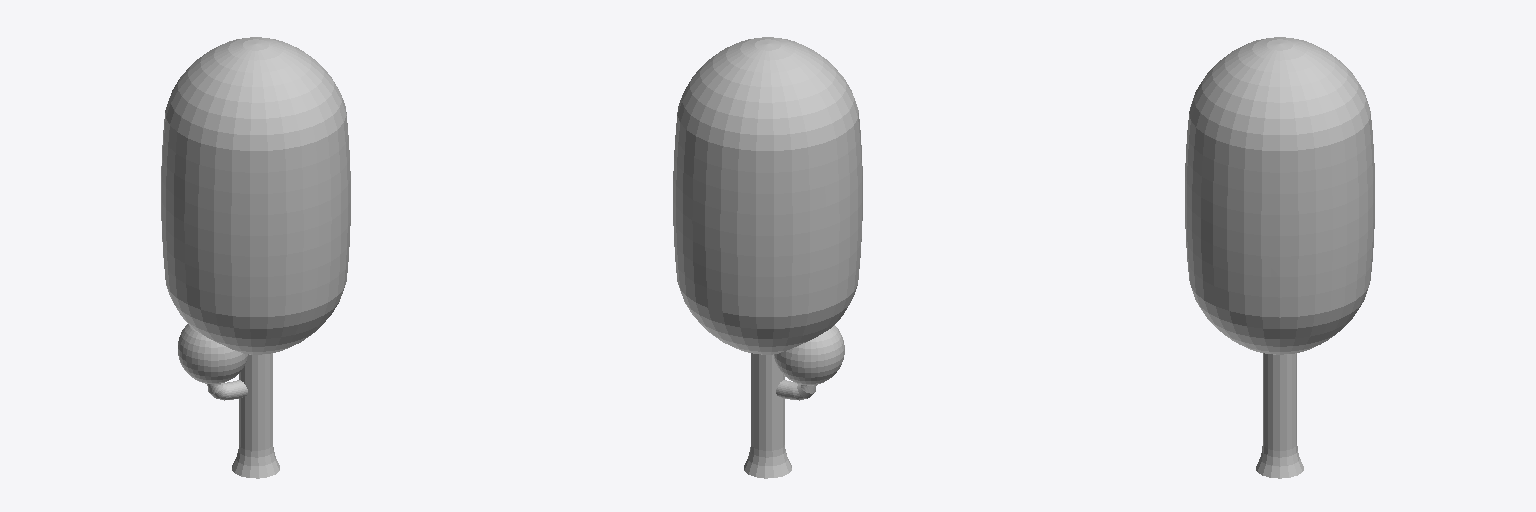
Rendered from tree_2.obj.
3 renders of one model, left to right at view 1: azimuth 30°, elevation 25°; view 2: azimuth 150°, elevation 25°; view 3: azimuth 270°, elevation 25°, orthographic.
Visible parts, largest first — view 1: off; view 2: off; view 3: off.
Boxes of the visible parts, x1,y1,x2,y2 form: off: [161, 37, 350, 478]; off: [673, 37, 862, 478]; off: [1185, 37, 1374, 478].
Size of the model in its own units: 1.19 by 2.92 by 1.19.